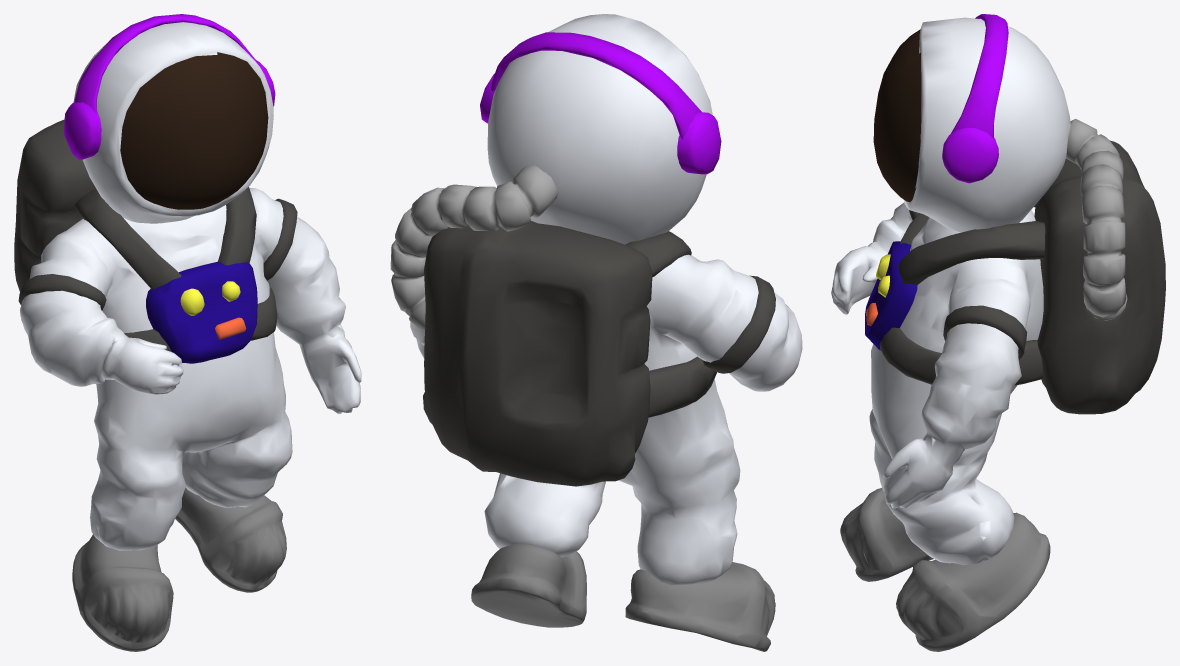
The model's file is astronaut-standing.glb.
3 views of the same model, side by side, from view 1: azimuth 30°, elevation 25°; view 2: azimuth 150°, elevation 25°; view 3: azimuth 270°, elevation 25° (orthographic). The views are drawn at different scales.
Visible parts, largest first — view 1: Body, Visor, Shoes, Blue btn case, BackPack, strap, Headphones, Right Armband, Left Armband, Yellow btns; view 2: Body, BackPack, Shoes, AirTube, Headphones, strap, Right Armband; view 3: Body, BackPack, Shoes, AirTube, strap, Visor, Headphones, Blue btn case, Left Armband.
Part boxes in pixels (left/top/right/bottom): Body: left=20, top=22, right=361, bottom=550; Visor: left=120, top=52, right=268, bottom=209; Shoes: left=72, top=487, right=286, bottom=651; Blue btn case: left=146, top=261, right=257, bottom=363; BackPack: left=14, top=119, right=96, bottom=320; strap: left=75, top=187, right=277, bottom=351; Headphones: left=63, top=14, right=275, bottom=159; Right Armband: left=18, top=274, right=106, bottom=310; Left Armband: left=263, top=198, right=297, bottom=280; Yellow btns: left=180, top=281, right=240, bottom=315; Body: left=410, top=14, right=802, bottom=585; BackPack: left=423, top=220, right=652, bottom=486; Shoes: left=471, top=543, right=775, bottom=651; AirTube: left=390, top=165, right=558, bottom=330; Headphones: left=480, top=32, right=721, bottom=174; strap: left=625, top=231, right=716, bottom=417; Right Armband: left=702, top=275, right=775, bottom=373; Body: left=831, top=17, right=1070, bottom=565; BackPack: left=1034, top=140, right=1165, bottom=414; Shoes: left=840, top=488, right=1050, bottom=651; AirTube: left=1066, top=119, right=1127, bottom=320; strap: left=879, top=205, right=1045, bottom=385; Visor: left=873, top=29, right=921, bottom=201; Headphones: left=942, top=14, right=1008, bottom=183; Blue btn case: left=865, top=241, right=917, bottom=350; Left Armband: left=943, top=305, right=1027, bottom=359.
Size of the model in its own units: 2.48 by 4.19 by 2.16.
